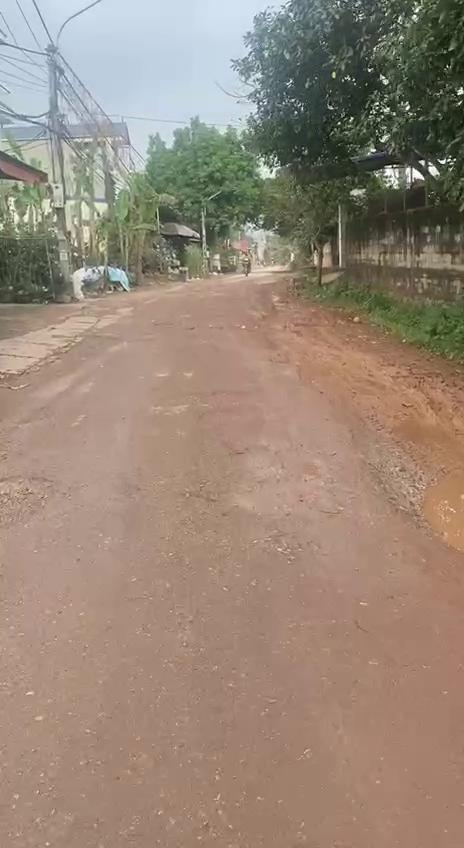pothole: (394, 464, 464, 554), (0, 473, 71, 534)
